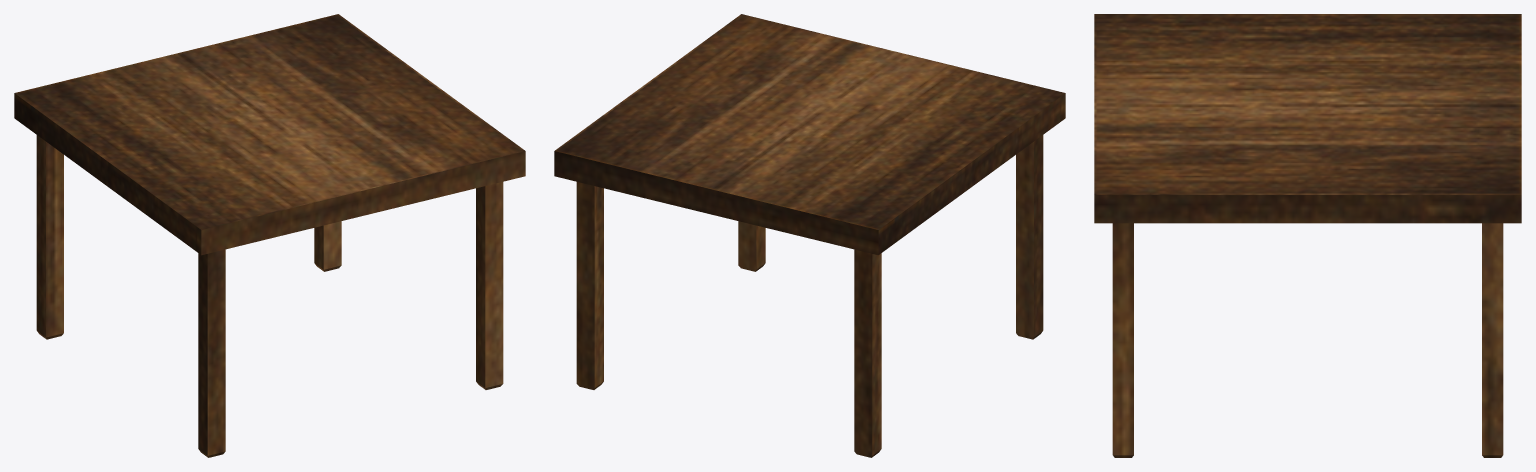
The model's file is table_01.obj.
3 renders of one model, left to right at view 1: azimuth 30°, elevation 25°; view 2: azimuth 150°, elevation 25°; view 3: azimuth 270°, elevation 25°, orthographic. The views are drawn at different scales.
Parts seen in each view (by area): view 1: table.01; view 2: table.01; view 3: table.01.
Boxes of the visible parts, x1,y1,x2,y2 form: table.01: (14, 14, 525, 457); table.01: (554, 14, 1065, 457); table.01: (1094, 14, 1521, 457).
Bounding box in the file's own units: 1.25 × 0.8777 × 1.25.
